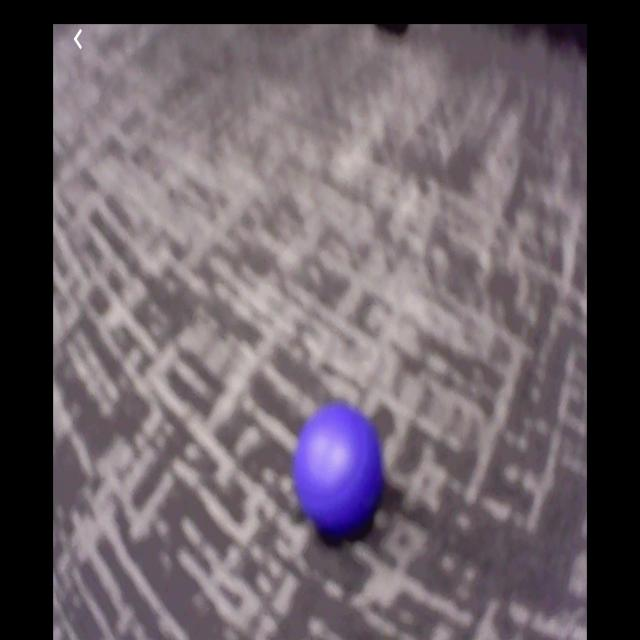ball: (294, 404, 382, 538)
